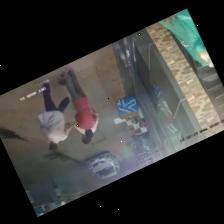person: (159, 9, 212, 66), (37, 79, 72, 150), (61, 68, 95, 137), (73, 123, 90, 143), (51, 179, 60, 197), (49, 196, 55, 208)
